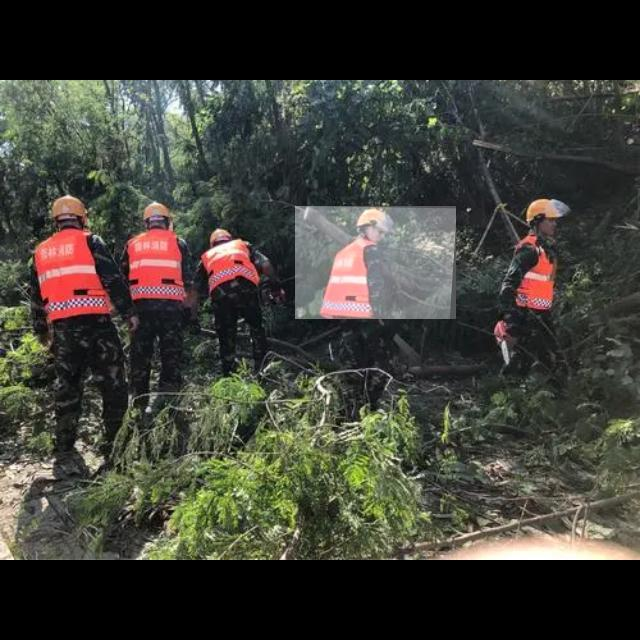fallen_tree: (295, 206, 457, 320)
